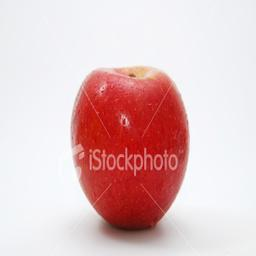apple: (69, 67, 190, 231)
